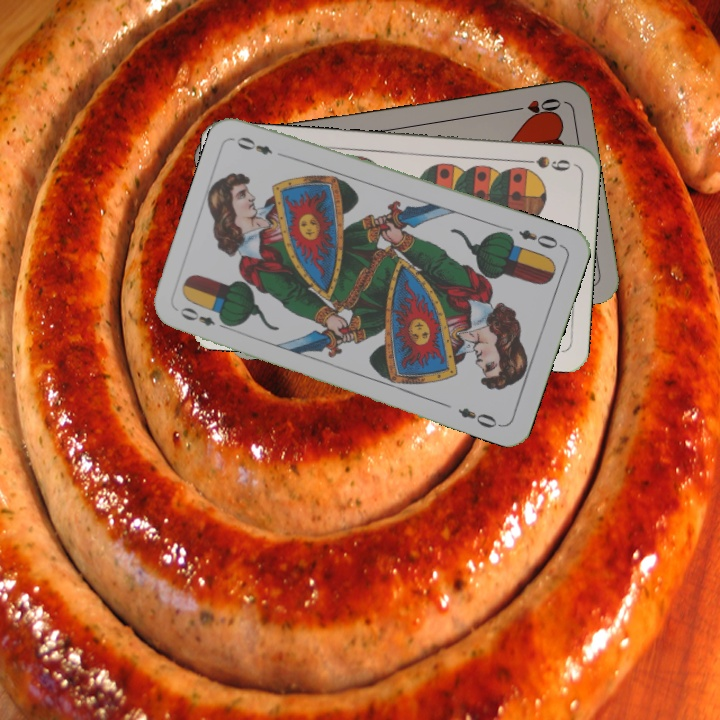EO: (176, 303, 232, 333), (514, 225, 566, 252)
HO: (505, 94, 563, 117)
S9: (515, 152, 573, 174)
